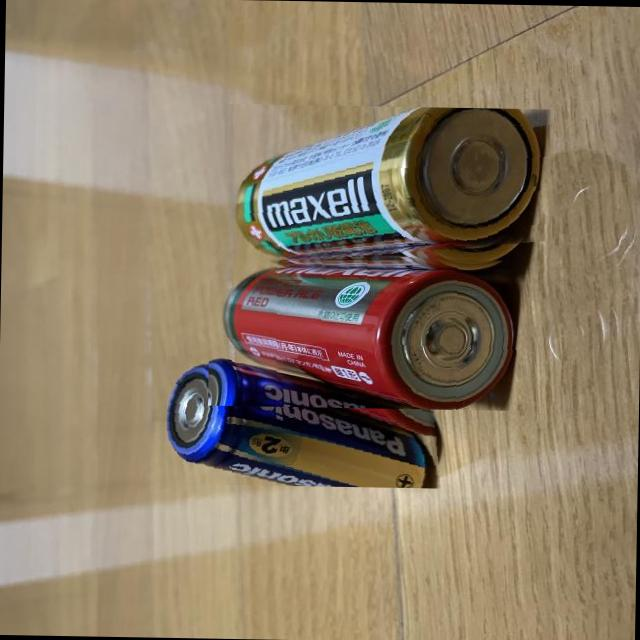Hazard: (221, 102, 554, 271), (208, 248, 527, 410), (166, 352, 446, 488)
